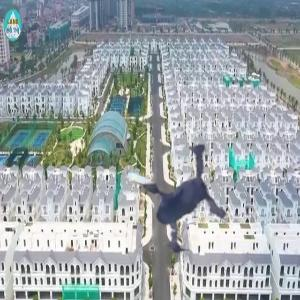drone: (75, 98, 253, 276)
